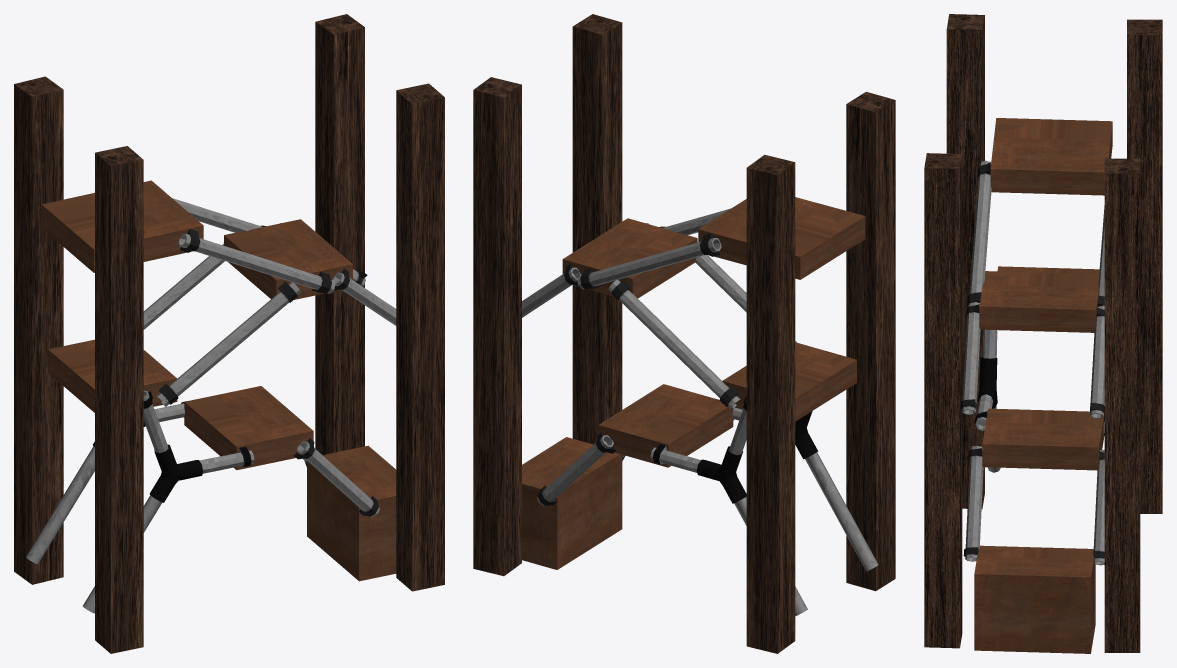
Rendered from Estructura_deSubida.fbx.
The picture shows the model from 3 angles, left to right: view 1: azimuth 30°, elevation 25°; view 2: azimuth 150°, elevation 25°; view 3: azimuth 270°, elevation 25°; orthographic projection.
Parts seen in each view (by area): view 1: Pilar.002, Pilar.001, Pilar.003, Pilar.004, Plataforma_00, Plataforma_01, MetalCilindrico.001, Plataforma_04, MetalCilindrico.002, Plataforma_03, MetalCilindrico.006, Plataforma_02; view 2: Pilar.003, Pilar.004, Pilar.002, Pilar.001, Plataforma_00, Plataforma_01, Plataforma_04, MetalCilindrico.002, MetalCilindrico.001, Plataforma_03, Plataforma_02, MetalCilindrico.006; view 3: Pilar.001, Pilar.004, Pilar.003, Plataforma_00, Pilar.002, Plataforma_04, MetalCilindrico.001, Plataforma_01, Plataforma_03, MetalCilindrico.002, Plataforma_02.
Boxes of the visible parts, <box> form: Pilar.002: <box>95,146,143,653</box>; Pilar.001: <box>396,83,444,591</box>; Pilar.003: <box>14,76,63,584</box>; Pilar.004: <box>315,14,364,454</box>; Plataforma_00: <box>307,445,396,581</box>; Plataforma_01: <box>184,386,313,469</box>; MetalCilindrico.001: <box>172,198,396,517</box>; Plataforma_04: <box>41,180,203,272</box>; MetalCilindrico.002: <box>26,390,254,613</box>; Plataforma_03: <box>224,219,352,299</box>; MetalCilindrico.006: <box>143,244,301,406</box>; Plataforma_02: <box>48,339,177,412</box>; Pilar.003: <box>746,154,795,653</box>; Pilar.004: <box>473,77,521,576</box>; Pilar.002: <box>846,91,895,591</box>; Pilar.001: <box>572,14,622,444</box>; Plataforma_00: <box>522,437,622,569</box>; Plataforma_01: <box>598,384,733,467</box>; Plataforma_04: <box>698,197,865,279</box>; MetalCilindrico.002: <box>650,395,878,615</box>; MetalCilindrico.001: <box>521,208,730,506</box>; Plataforma_03: <box>562,218,697,298</box>; Plataforma_02: <box>722,342,856,421</box>; MetalCilindrico.006: <box>608,255,797,409</box>; Pilar.001: <box>924,153,962,648</box>; Pilar.004: <box>1104,158,1140,652</box>; Pilar.003: <box>1127,19,1162,513</box>; Plataforma_00: <box>974,545,1095,653</box>; Pilar.002: <box>946,14,984,508</box>; Plataforma_04: <box>990,118,1112,195</box>; MetalCilindrico.001: <box>960,160,1104,565</box>; Plataforma_01: <box>982,408,1104,470</box>; Plataforma_03: <box>979,271,1099,332</box>; MetalCilindrico.002: <box>974,329,1104,472</box>; Plataforma_02: <box>997,266,1099,274</box>.
Bounding box in the file's own units: 656 × 910 × 408.
Materials: 4 (4 with a texture image).
